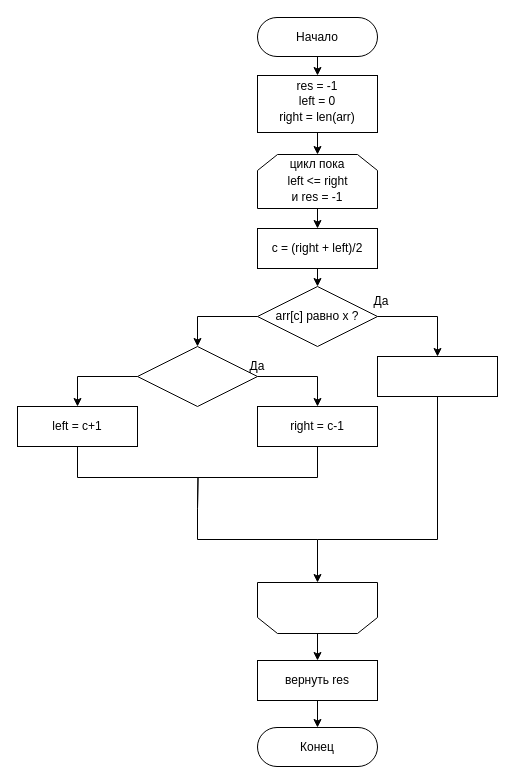
Image size: 515x784. Some labels were removed from this diagram. The box of each missing label's shape, as (x1, y1, x2, y2) in pixels:
arr[c] < x: (136, 346, 258, 406)
res = i: (376, 356, 498, 396)
Конец цикла: (256, 582, 378, 634)
